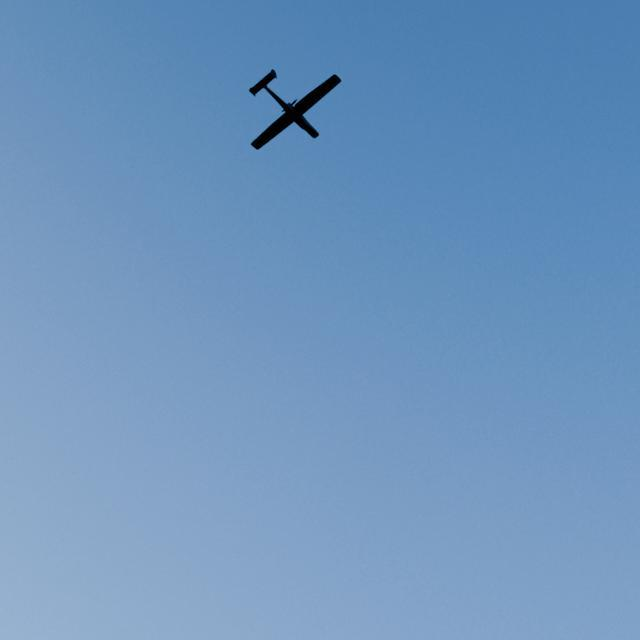Airaplan: (249, 69, 341, 150)
